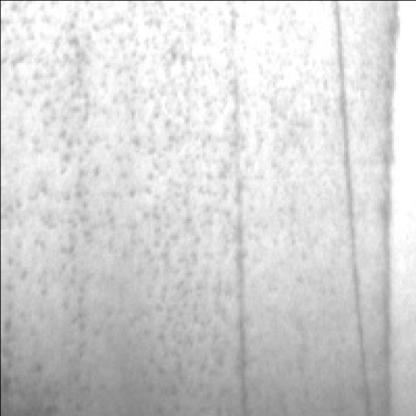pitted_surface: (2, 8, 237, 412)
